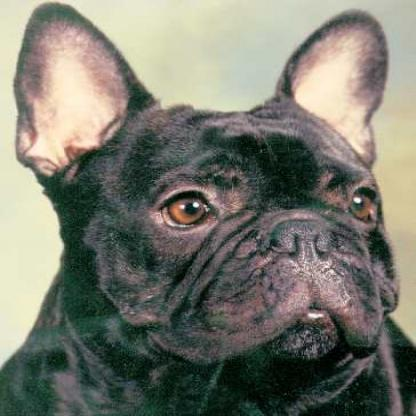French_bulldog: (0, 0, 413, 413)
